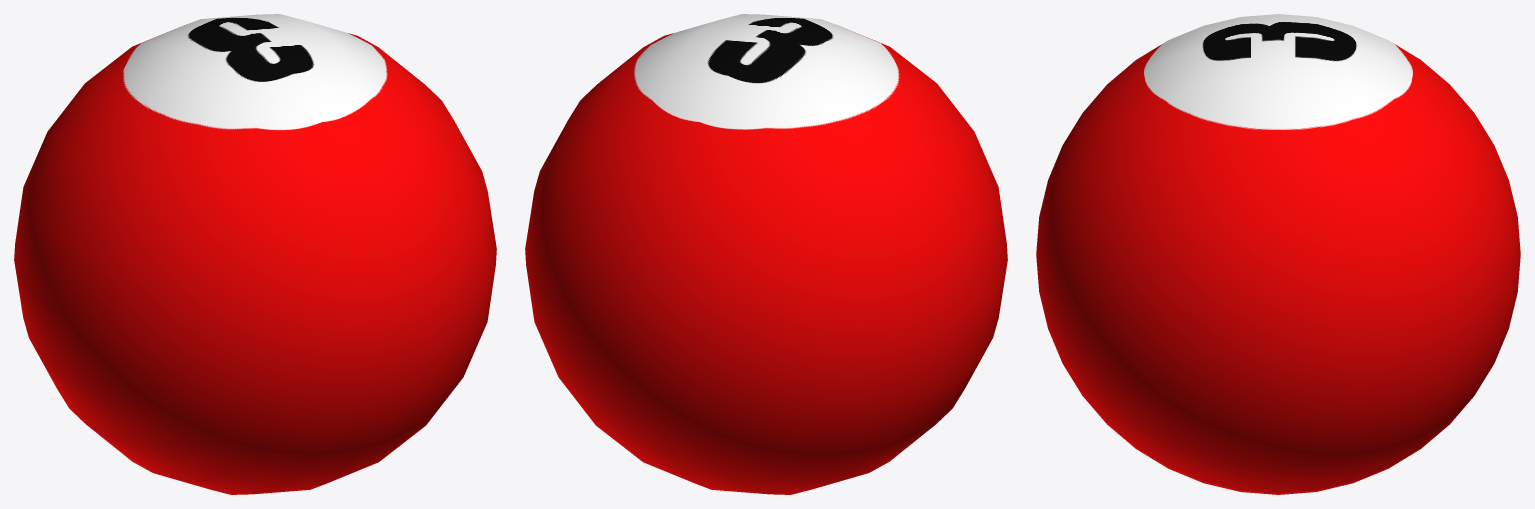
The model's file is ball3.fbx.
3 renders of one model, left to right at view 1: azimuth 30°, elevation 25°; view 2: azimuth 150°, elevation 25°; view 3: azimuth 270°, elevation 25°, orthographic.
Parts seen in each view (by area): view 1: pSphere1; view 2: pSphere1; view 3: pSphere1.
Boxes of the visible parts, box(x1,y1,x2,y2) form: pSphere1: box(14, 14, 496, 494); pSphere1: box(525, 14, 1007, 494); pSphere1: box(1036, 14, 1520, 494).
Size of the model in its own units: 2 by 2 by 2.
